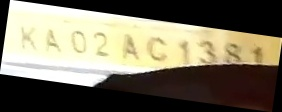character: (146, 34, 168, 63), (120, 32, 140, 60), (92, 29, 111, 58), (42, 29, 63, 55), (196, 39, 217, 64), (20, 25, 38, 52), (69, 29, 87, 55), (176, 39, 193, 64), (224, 42, 242, 65), (252, 45, 263, 64)
